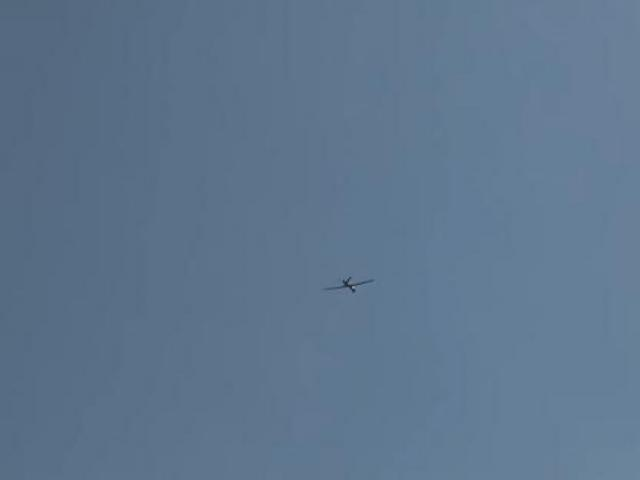uav: (315, 261, 380, 304)
